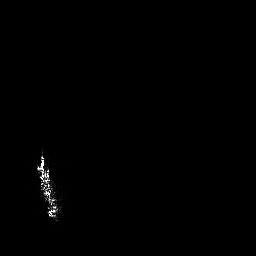ship: (36, 147, 64, 224)
